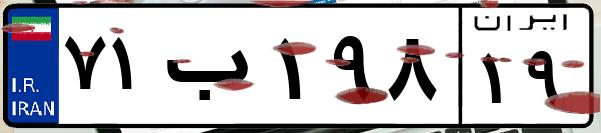1: (270, 28, 330, 110), (475, 38, 525, 113), (110, 28, 158, 98)
7: (57, 26, 110, 100)
8: (385, 28, 445, 110)
9: (330, 28, 385, 110), (525, 38, 570, 115)
ب: (158, 20, 270, 120)
